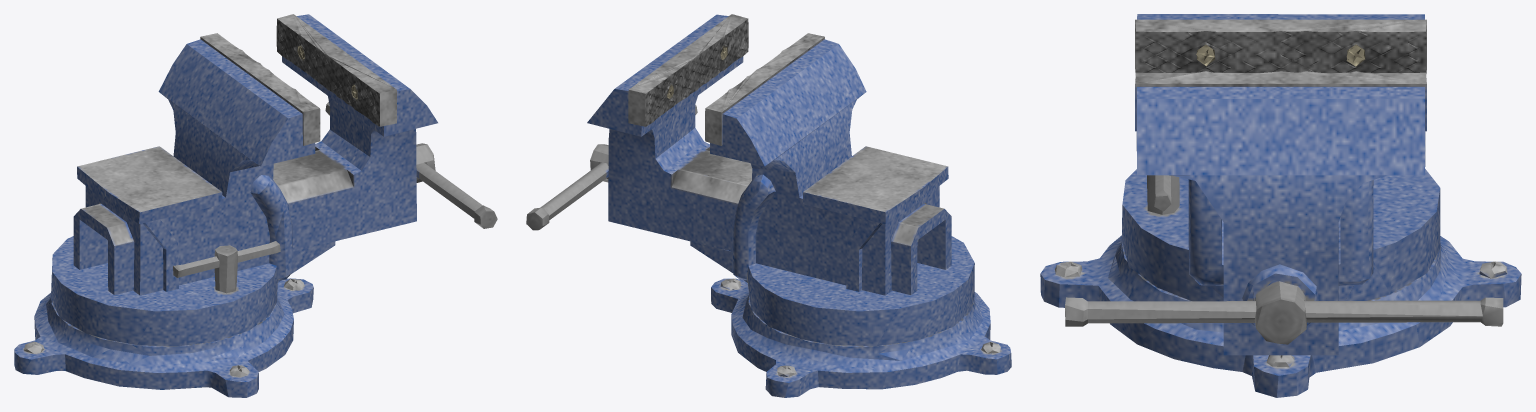
File: equipment_bench_vise_a01.glb
The picture shows the model from 3 angles, left to right: view 1: azimuth 30°, elevation 25°; view 2: azimuth 150°, elevation 25°; view 3: azimuth 270°, elevation 25°; orthographic projection. The views are drawn at different scales.
Parts seen in each view (by area): view 1: equipment_bench_vise_a01_lod1; view 2: equipment_bench_vise_a01_lod1; view 3: equipment_bench_vise_a01_lod1.
Boxes of the visible parts, left/top/right/bottom form: equipment_bench_vise_a01_lod1: left=14, top=14, right=497, bottom=397; equipment_bench_vise_a01_lod1: left=526, top=14, right=1011, bottom=397; equipment_bench_vise_a01_lod1: left=1040, top=14, right=1521, bottom=397.
Bounding box in the file's own units: 0.3241 × 0.1807 × 0.2327.
1 material, 1 textured.
